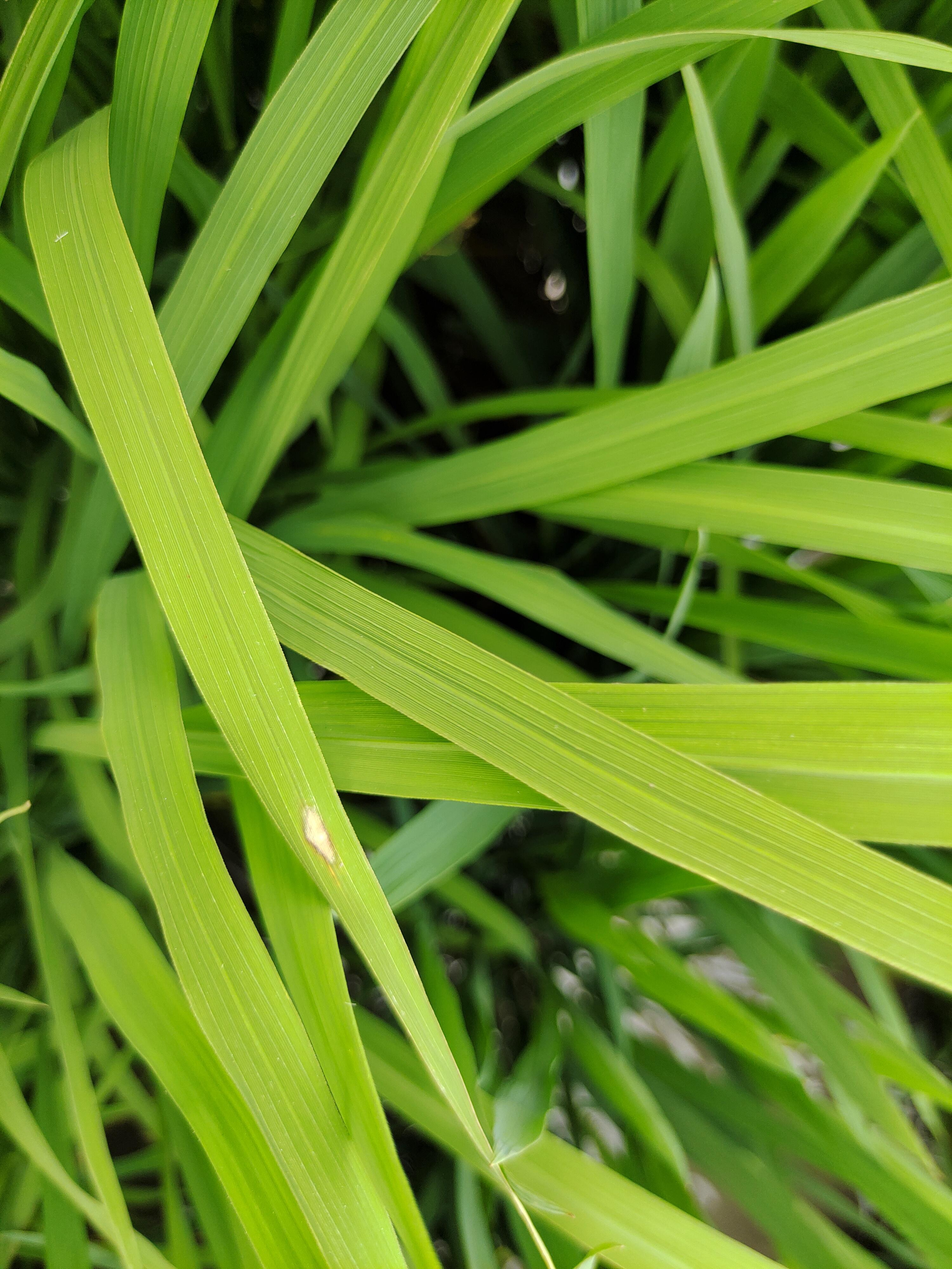LEAF: (24, 108, 553, 1269)
LEAF BLAST: (300, 795, 344, 886)
